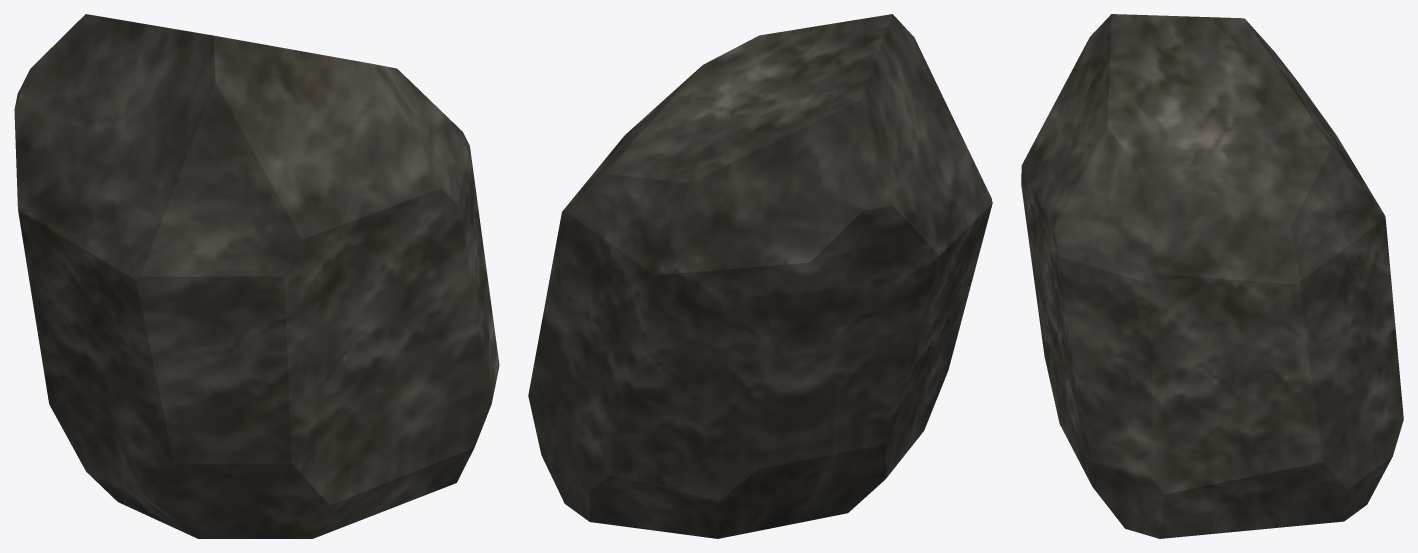
File: Rocha-02-Escarpada.glb
3 views of the same model, side by side, from view 1: azimuth 30°, elevation 25°; view 2: azimuth 150°, elevation 25°; view 3: azimuth 270°, elevation 25° (orthographic). The views are drawn at different scales.
Parts seen in each view (by area): view 1: Escarpada; view 2: Escarpada; view 3: Escarpada.
Boxes of the visible parts, <box> form: Escarpada: <box>14,14,499,538</box>; Escarpada: <box>528,14,992,538</box>; Escarpada: <box>1021,14,1403,538</box>.
Size of the model in its own units: 1.75 by 1.97 by 1.64.
Materials: 1 (1 with a texture image).
